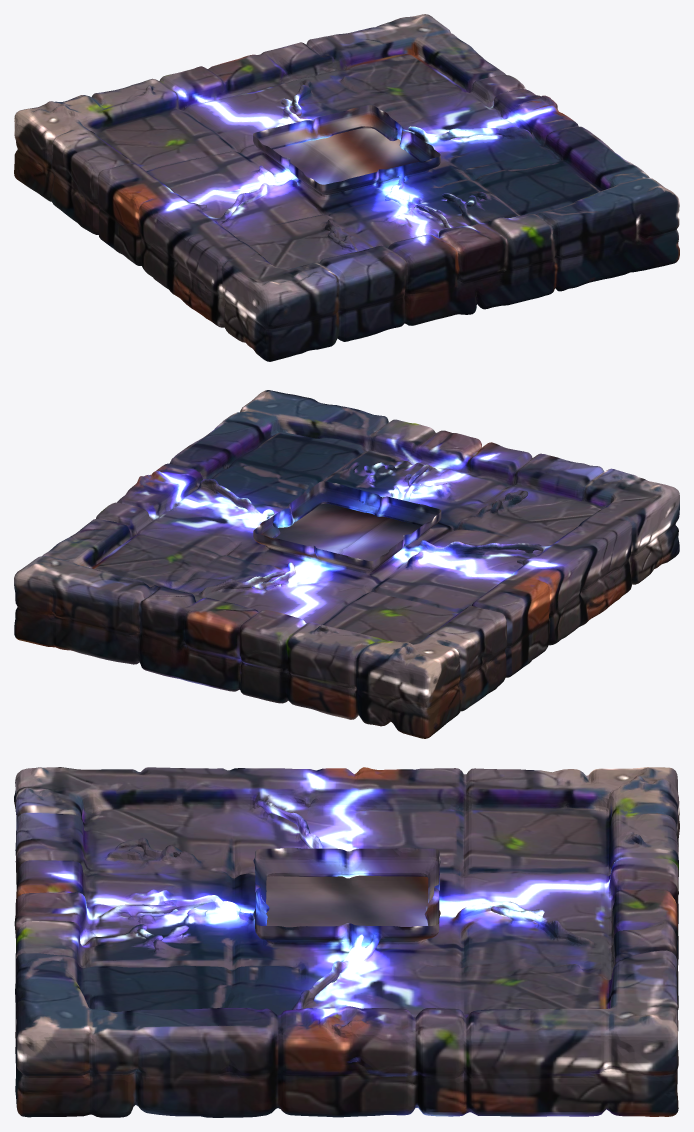
The model's file is thunder_plate.glb.
3 renders of one model, top to bottom at view 1: azimuth 30°, elevation 25°; view 2: azimuth 150°, elevation 25°; view 3: azimuth 270°, elevation 25°, orthographic. The views are drawn at different scales.
Visible parts, largest first — view 1: thunder_plate; view 2: thunder_plate; view 3: thunder_plate.
Boxes of the visible parts, x1,y1,x2,y2 form: thunder_plate: [14, 14, 679, 361]; thunder_plate: [14, 390, 679, 738]; thunder_plate: [14, 767, 679, 1117].
Size of the model in its own units: 1.9 by 0.3354 by 2.
1 material, 1 textured.
